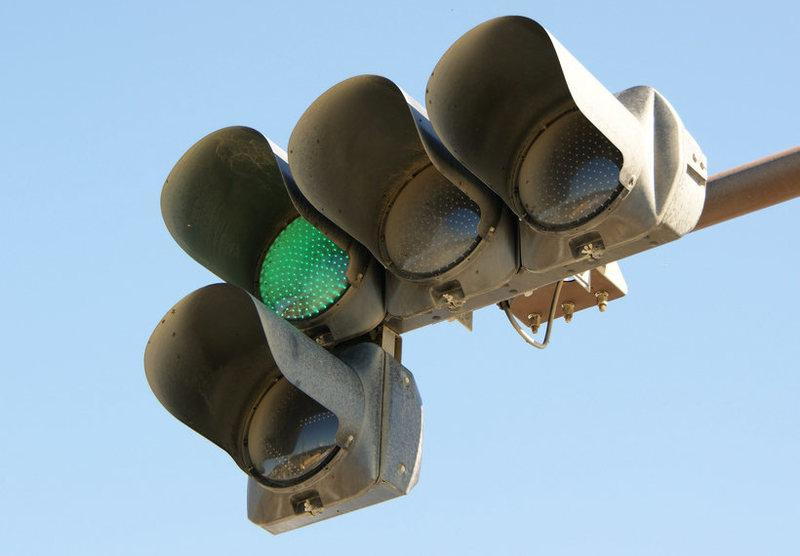Traffic light green: (137, 106, 739, 284)
